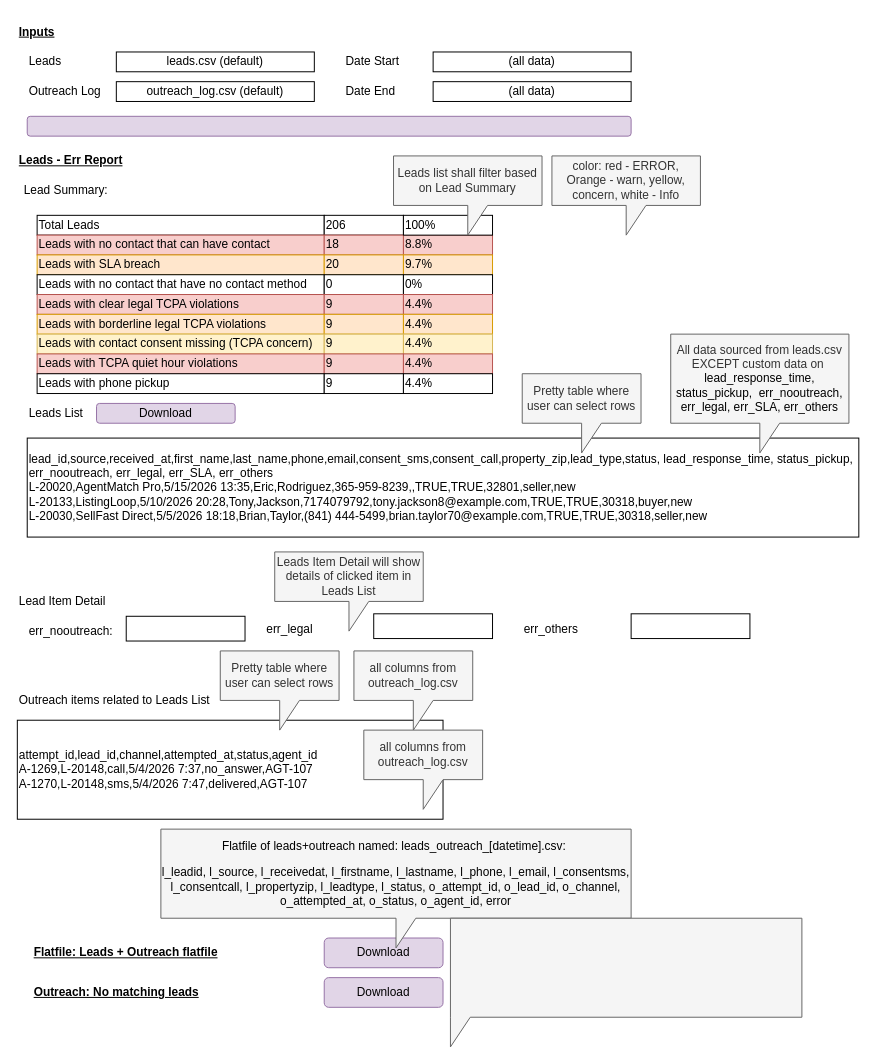
This 876x1064 diagram has some shape labels left out. The centre of each missing label's shape, as x and y in pixels:
"File name: outreach_nomatchingleads.csv all columns from outreach_log.csv" goes at [625,982].
"Process" goes at [328,125].
